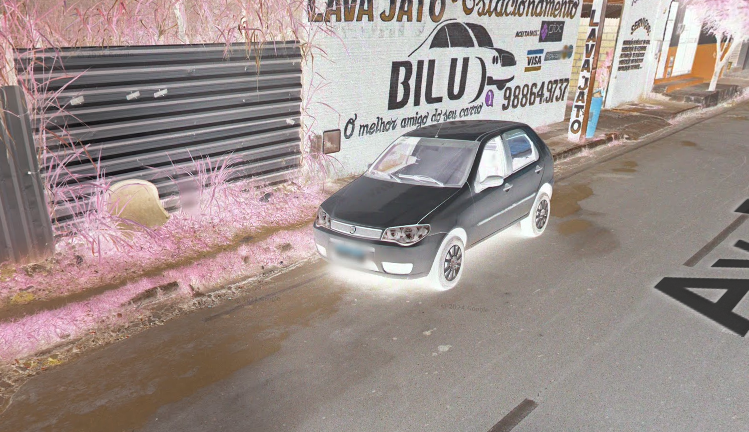car: (311, 111, 557, 297)
